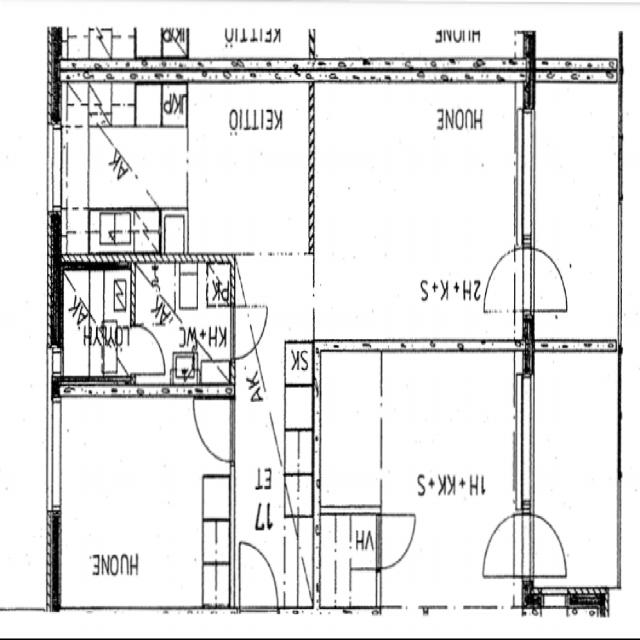door: (484, 248, 534, 312), (522, 248, 571, 312), (239, 545, 277, 620), (193, 400, 234, 461), (230, 308, 266, 359), (130, 326, 164, 375)
